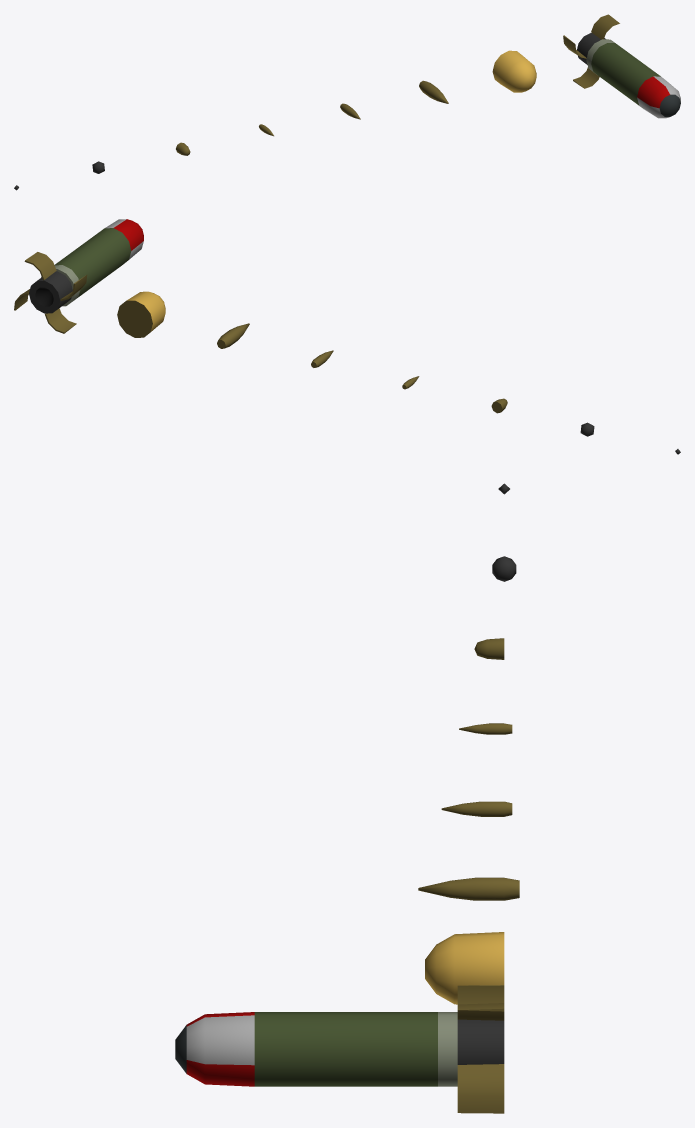
The model's file is VFX_Projectiles.FBX.
The picture shows the model from 3 angles, top to bottom: view 1: azimuth 30°, elevation 25°; view 2: azimuth 150°, elevation 25°; view 3: azimuth 270°, elevation 25°; orthographic projection. The views are drawn at different scales.
Visible parts, largest first — view 1: Projectile_MiniRocket, Projectile_40mm, Projectile_pt50bmg; view 2: Projectile_MiniRocket, Projectile_40mm, Projectile_pt50bmg; view 3: Projectile_MiniRocket, Projectile_40mm, Projectile_pt50bmg.
Boxes of the visible parts, x1,y1,x2,y2 form: Projectile_MiniRocket: (563, 14, 680, 118); Projectile_40mm: (492, 50, 536, 92); Projectile_pt50bmg: (419, 80, 448, 103); Projectile_MiniRocket: (14, 219, 143, 333); Projectile_40mm: (117, 291, 165, 337); Projectile_pt50bmg: (217, 323, 249, 348); Projectile_MiniRocket: (175, 985, 504, 1113); Projectile_40mm: (425, 932, 504, 1004); Projectile_pt50bmg: (418, 877, 519, 900).
Size of the model in its own units: 73.7 by 18.17 by 6.75.
